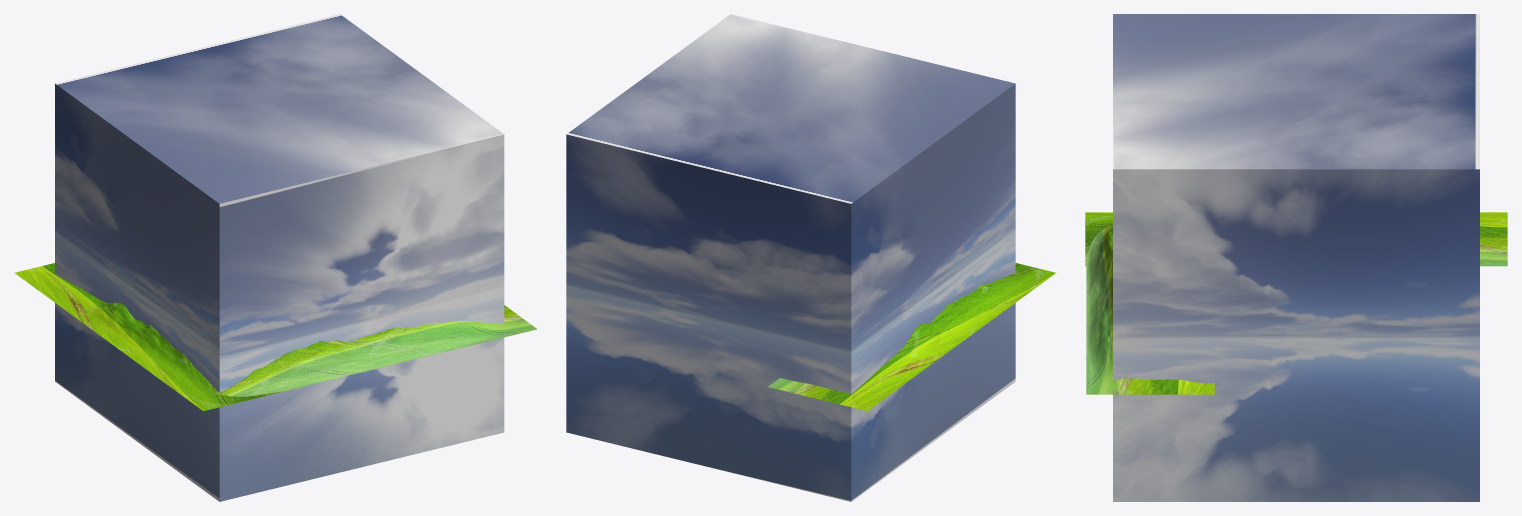
The model's file is skybox.glb.
The picture shows the model from 3 angles, left to right: view 1: azimuth 30°, elevation 25°; view 2: azimuth 150°, elevation 25°; view 3: azimuth 270°, elevation 25°; orthographic projection. The views are drawn at different scales.
Parts seen in each view (by area): view 1: Куб, Landscape.001, Landscape; view 2: Куб, Landscape; view 3: Куб, Landscape.001, Landscape.
Boxes of the visible parts, <box> form: Куб: <box>55,14,504,501</box>; Landscape.001: <box>195,305,536,408</box>; Landscape: <box>14,263,302,411</box>; Куб: <box>566,14,1015,501</box>; Landscape: <box>768,263,1056,411</box>; Куб: <box>1113,14,1479,501</box>; Landscape.001: <box>1086,216,1214,394</box>; Landscape: <box>1085,212,1507,266</box>.
Size of the model in its own units: 470 by 400 by 460.
Materials: 3 (3 with a texture image).
